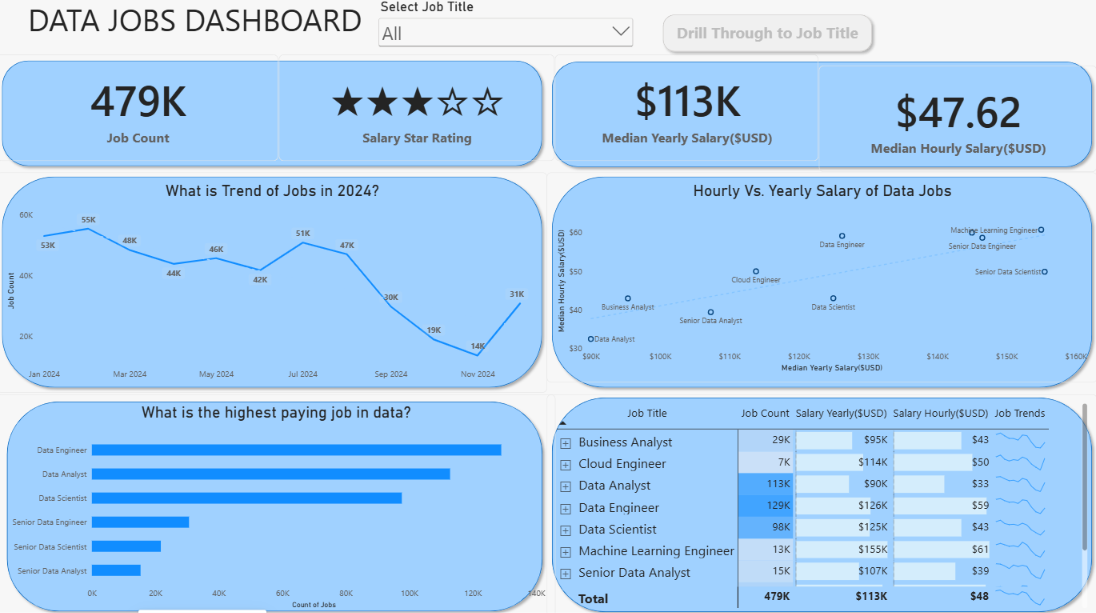

This screenshot's page, from the dashboard's own definition file:
{"tool":"powerbi","page":{"name":"Data Jobs Dashboard","canvas":[1920,1080],"ordinal":0},"visuals":[{"type":"group","id":"g1","title":"Background","box":[0,100,1920,980],"z":0},{"type":"shape","box":[0,100,960,202],"z":0,"group":"g1"},{"type":"textbox","box":[10.1,0,670.6,84],"z":1000},{"type":"shape","box":[960,102,960,202],"z":1000,"group":"g1"},{"type":"slicer","fields":{"Values":["job_postings_flat.job_title_short"]},"box":[660.9,0,453.8,99.2],"z":2000},{"type":"shape","box":[0,302,960,386],"z":2000,"group":"g1"},{"type":"cardVisual","fields":{"Data":["CountNonNull(job_postings_flat.job_title_short)"]},"box":[0,98.3,491.4,186.9],"z":3000},{"type":"shape","box":[960,302,960,386],"z":3000,"group":"g1"},{"type":"cardVisual","fields":{"Data":["job_postings_flat.Salary Star Rating"]},"box":[491.4,98.3,481.7,186.9],"z":4000},{"type":"shape","box":[8,694,952,384],"z":4000,"group":"g1"},{"type":"cardVisual","fields":{"Data":["Median(job_postings_flat.salary_year_avg)"]},"box":[973.1,98.3,460.5,186.9],"z":5000},{"type":"shape","box":[960,688,960,392],"z":5000,"group":"g1"},{"type":"cardVisual","fields":{"Data":["Median(job_postings_flat.salary_hour_avg)"]},"box":[1434,116,485.6,186.9],"z":6000},{"type":"lineChart","title":"What is Trend of Jobs in 2024?","fields":{"Category":["job_postings_flat.job_posted_date.Variation.Date Hierarchy.Year","job_postings_flat.job_posted_date.Variation.Date Hierarchy.Quarter","job_postings_flat.job_posted_date.Variation.Date Hierarchy.Month","job_postings_flat.job_posted_date.Variation.Date Hierarchy.Day"],"Y":["CountNonNull(job_postings_flat.job_title_short)"]},"box":[0,304,960,384],"z":7000},{"type":"barChart","title":"What is the highest paying job in data?","fields":{"Category":["job_postings_flat.job_title_short"],"Y":["CountNonNull(job_postings_flat.job_title_short)"]},"box":[0,690,974,390],"z":8000},{"type":"scatterChart","title":"Hourly Vs. Yearly Salary of Data Jobs","fields":{"Series":["job_postings_flat.job_title_short"],"X":["Median(job_postings_flat.salary_year_avg)"],"Y":["Median(job_postings_flat.salary_hour_avg)"]},"box":[960,304,960,366],"z":9000},{"type":"pivotTable","fields":{"Rows":["job_postings_flat.job_title_short","job_postings_flat.job_posted_date.Variation.Date Hierarchy.Quarter"],"Values":["CountNonNull(job_postings_flat.job_title_short)","Median(job_postings_flat.salary_year_avg)","Median(job_postings_flat.salary_hour_avg)","SparklineData(CountNonNull(job_postings_flat.job_title_short)_[job_postings_flat.job_posted_date.Variation.Date Hierarch"]},"box":[960,690,960,390],"z":10000},{"type":"actionButton","box":[1152.5,20,382.5,82.5],"z":11000}]}

Visuals, with their boxes in screenshot pixels (x1, y1, x2, y2), scaled from the page's 1920x1080 canvas onto the 1096x613 screenshot:
"Background" group: pyautogui.locateOnScreen(0, 57, 1095, 612)
shape: pyautogui.locateOnScreen(0, 57, 548, 171)
textbox: pyautogui.locateOnScreen(6, 0, 389, 48)
shape: pyautogui.locateOnScreen(548, 58, 1095, 173)
slicer - job_postings_flat.job_title_short: pyautogui.locateOnScreen(377, 0, 636, 56)
shape: pyautogui.locateOnScreen(0, 171, 548, 391)
cardVisual - CountNonNull(job_postings_flat.job_title_short): pyautogui.locateOnScreen(0, 56, 281, 162)
shape: pyautogui.locateOnScreen(548, 171, 1095, 391)
cardVisual - job_postings_flat.Salary Star Rating: pyautogui.locateOnScreen(281, 56, 555, 162)
shape: pyautogui.locateOnScreen(5, 394, 548, 612)
cardVisual - Median(job_postings_flat.salary_year_avg): pyautogui.locateOnScreen(555, 56, 818, 162)
shape: pyautogui.locateOnScreen(548, 391, 1095, 612)
cardVisual - Median(job_postings_flat.salary_hour_avg): pyautogui.locateOnScreen(819, 66, 1095, 172)
"What is Trend of Jobs in 2024?" lineChart: pyautogui.locateOnScreen(0, 173, 548, 391)
"What is the highest paying job in data?" barChart: pyautogui.locateOnScreen(0, 392, 556, 612)
"Hourly Vs. Yearly Salary of Data Jobs" scatterChart: pyautogui.locateOnScreen(548, 173, 1095, 380)
pivotTable - job_postings_flat.job_title_short x job_postings_flat.job_posted_date.Variation.Date Hierarchy.Quarter: pyautogui.locateOnScreen(548, 392, 1095, 612)
actionButton: pyautogui.locateOnScreen(658, 11, 876, 58)
